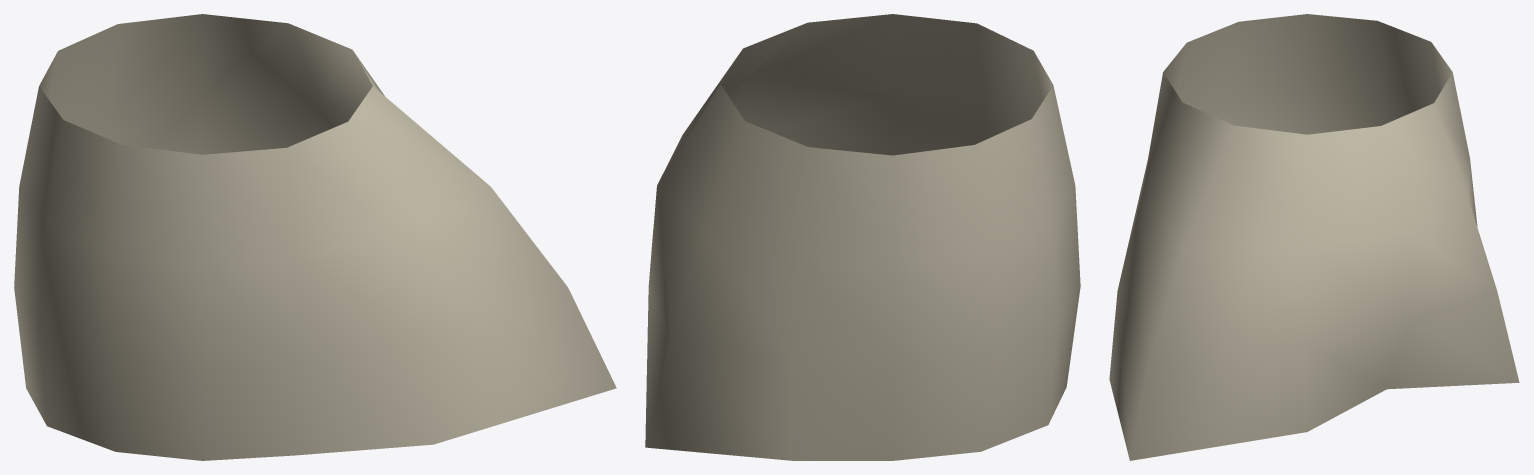
The model's file is necro_armor_pauldron.L.glb.
3 views of the same model, side by side, from view 1: azimuth 30°, elevation 25°; view 2: azimuth 150°, elevation 25°; view 3: azimuth 270°, elevation 25° (orthographic). The views are drawn at different scales.
Parts seen in each view (by area): view 1: necro_armor_pauldron.L; view 2: necro_armor_pauldron.L; view 3: necro_armor_pauldron.L.
Part boxes in pixels (x1,y1,x2,y2): necro_armor_pauldron.L: (14, 14, 616, 460); necro_armor_pauldron.L: (645, 14, 1080, 460); necro_armor_pauldron.L: (1109, 14, 1519, 460).
Bounding box in the file's own units: 0.2451 × 0.149 × 0.2139.
